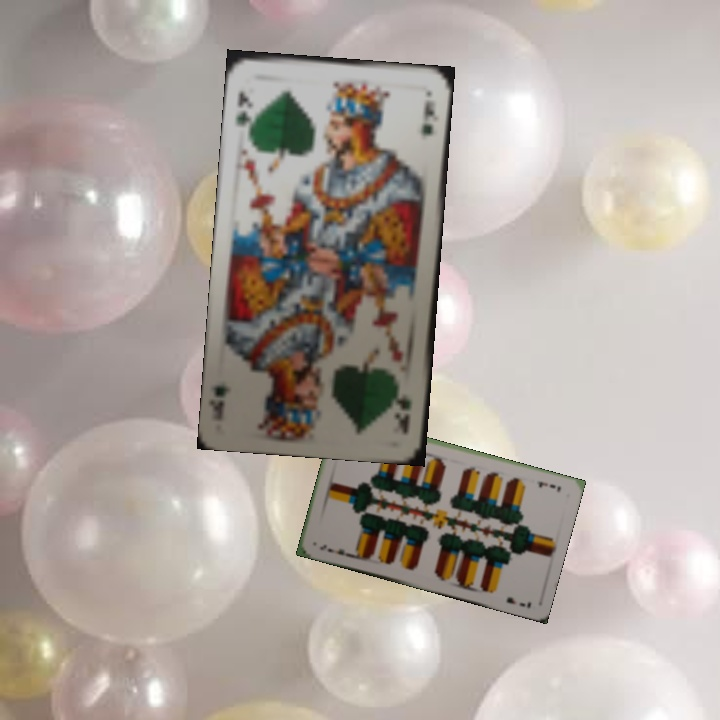E7: (316, 541, 353, 559), (534, 477, 564, 495)
GK: (232, 86, 256, 135), (392, 391, 415, 437)
